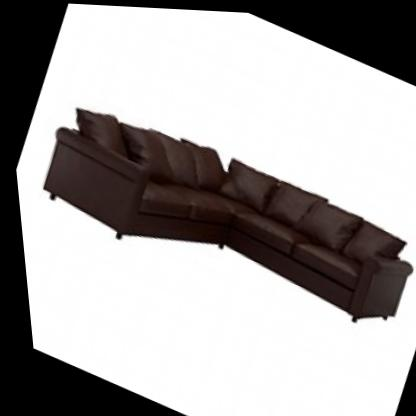Sofa: (4, 59, 416, 363)
